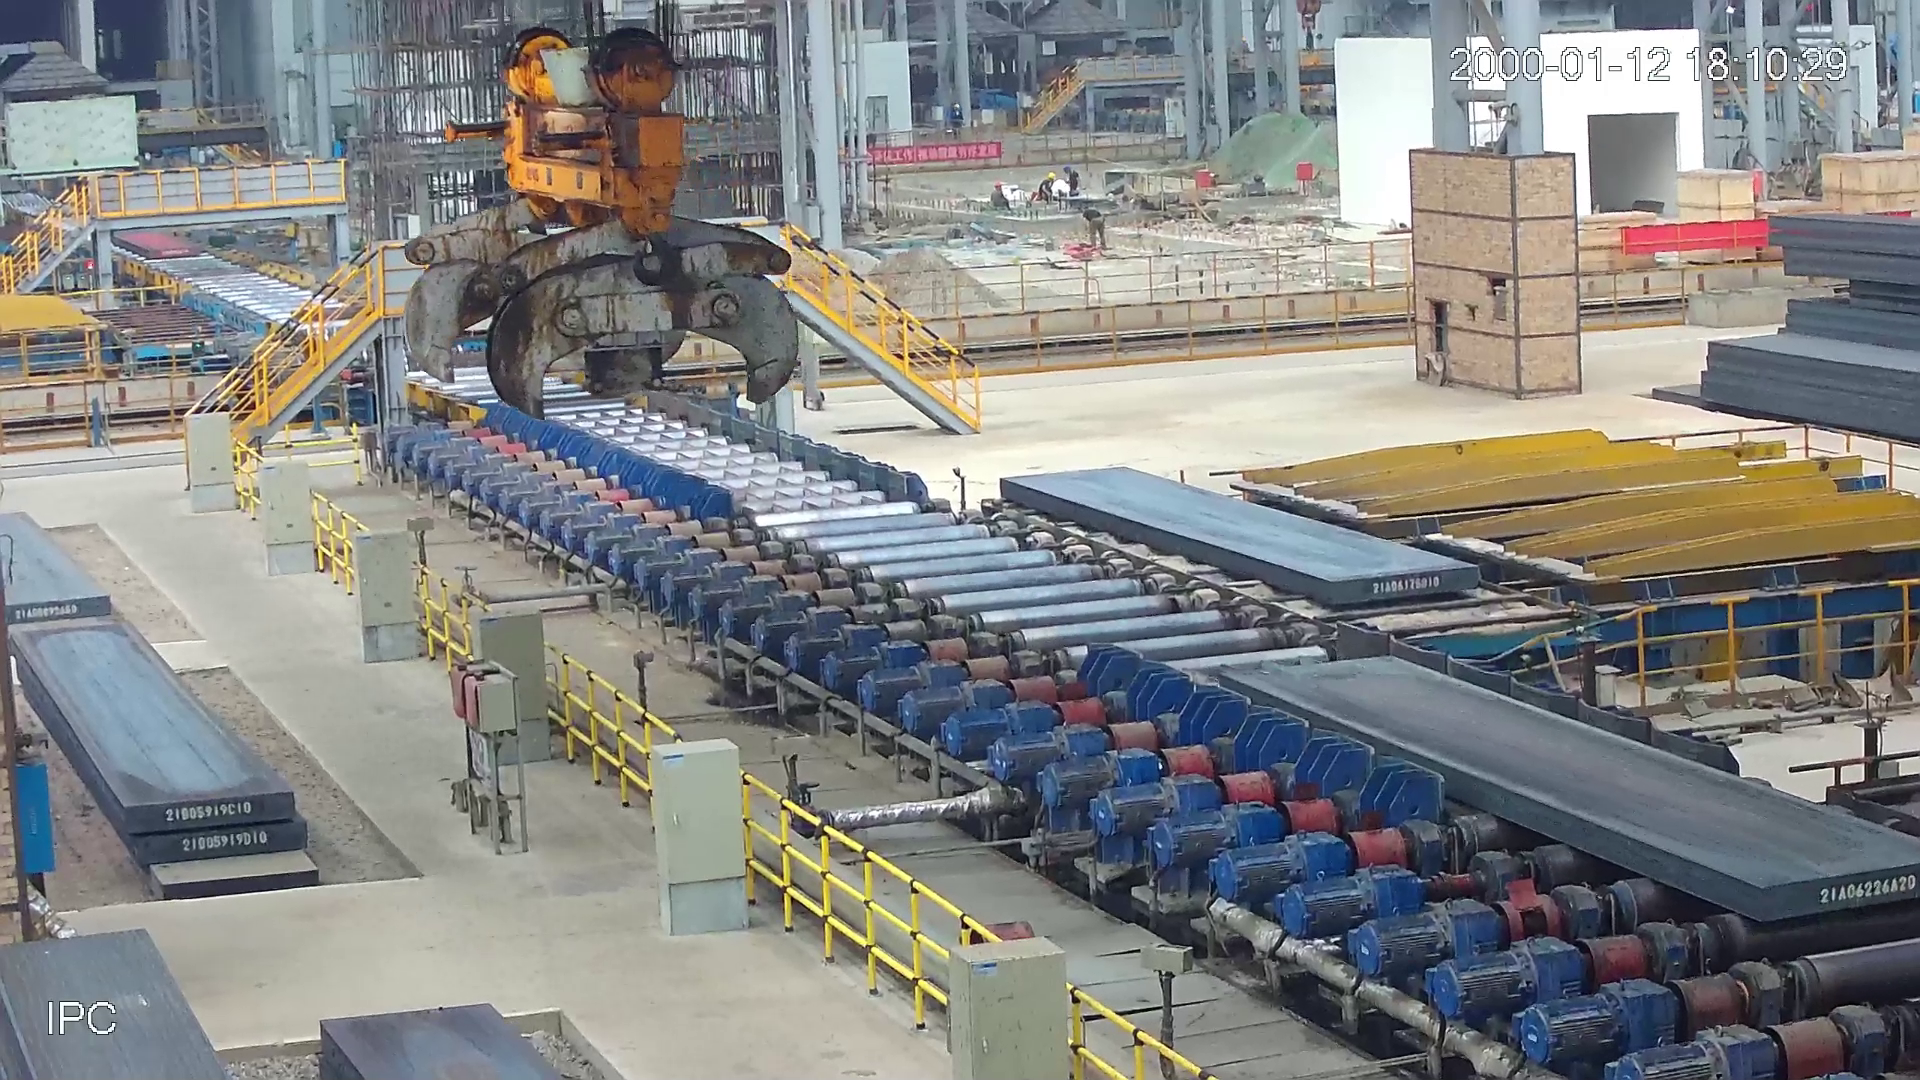crane: (394, 17, 822, 431)
slab: (1197, 650, 1920, 934), (986, 458, 1482, 607), (112, 227, 203, 261)
